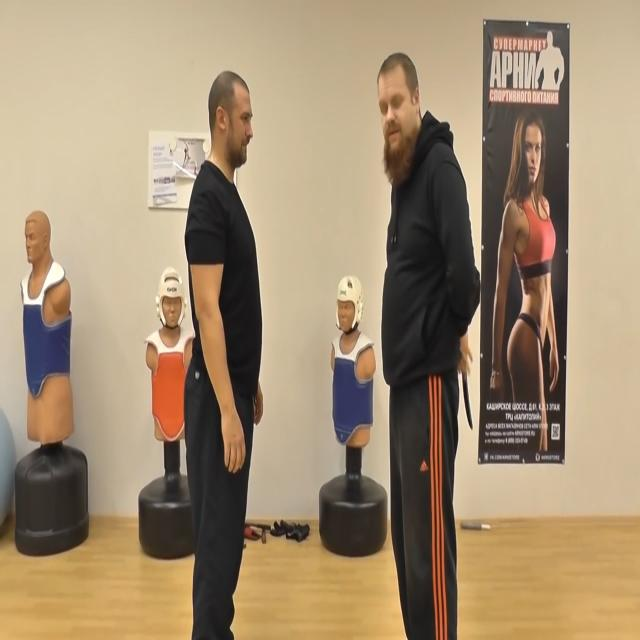knife: (463, 371, 477, 438)
